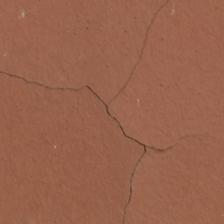Crack: (33, 24, 119, 136), (23, 23, 109, 126), (60, 0, 96, 132)
